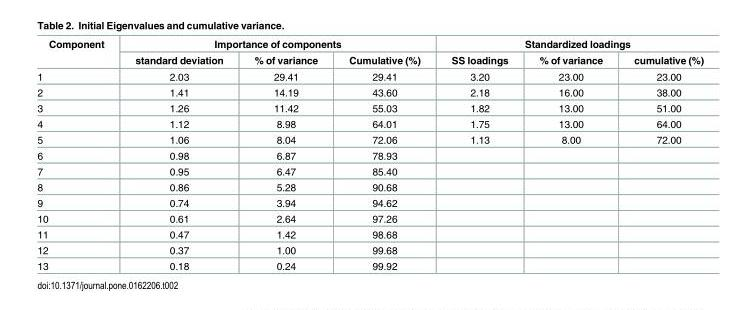table: (36, 37, 703, 271)
table column: (118, 37, 238, 271), (332, 37, 435, 271), (238, 37, 332, 271), (523, 37, 617, 271), (435, 37, 523, 271), (617, 37, 703, 271), (36, 37, 118, 271)
table column header: (36, 37, 703, 67)
table row: (36, 67, 703, 84), (36, 51, 703, 67), (36, 99, 703, 115), (36, 115, 703, 131), (36, 131, 703, 147), (36, 162, 703, 178), (36, 178, 703, 194), (36, 194, 703, 210), (36, 210, 703, 226), (36, 241, 703, 257), (36, 84, 703, 99), (36, 147, 703, 162), (36, 226, 703, 241), (36, 37, 703, 51), (36, 257, 703, 271)
table spanning cell: (118, 37, 435, 51), (435, 37, 703, 51), (36, 37, 118, 67)
